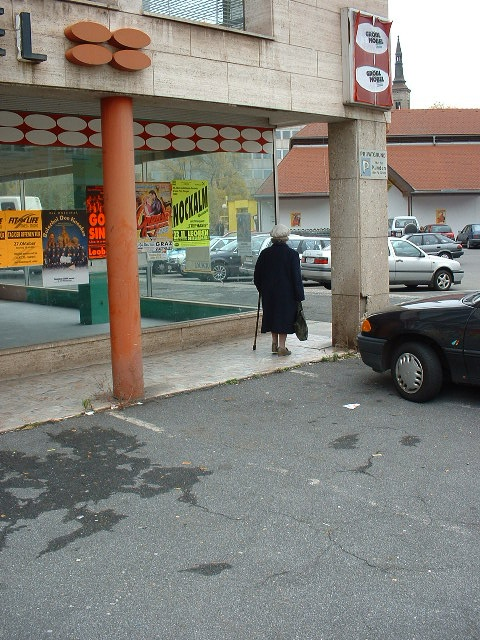person: (245, 220, 310, 357)
